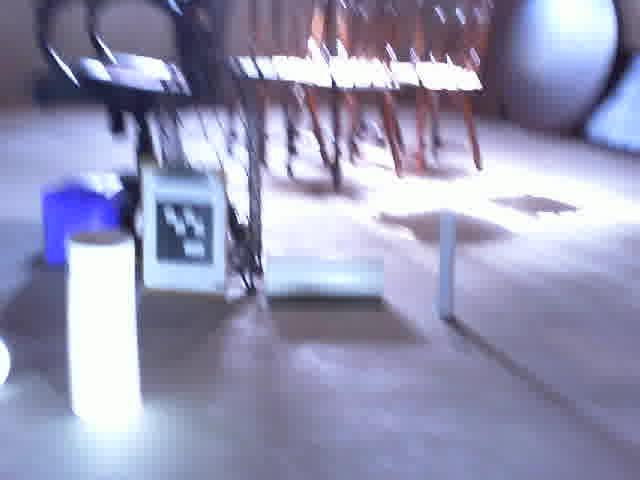coral: (60, 220, 146, 425), (259, 251, 389, 310)
